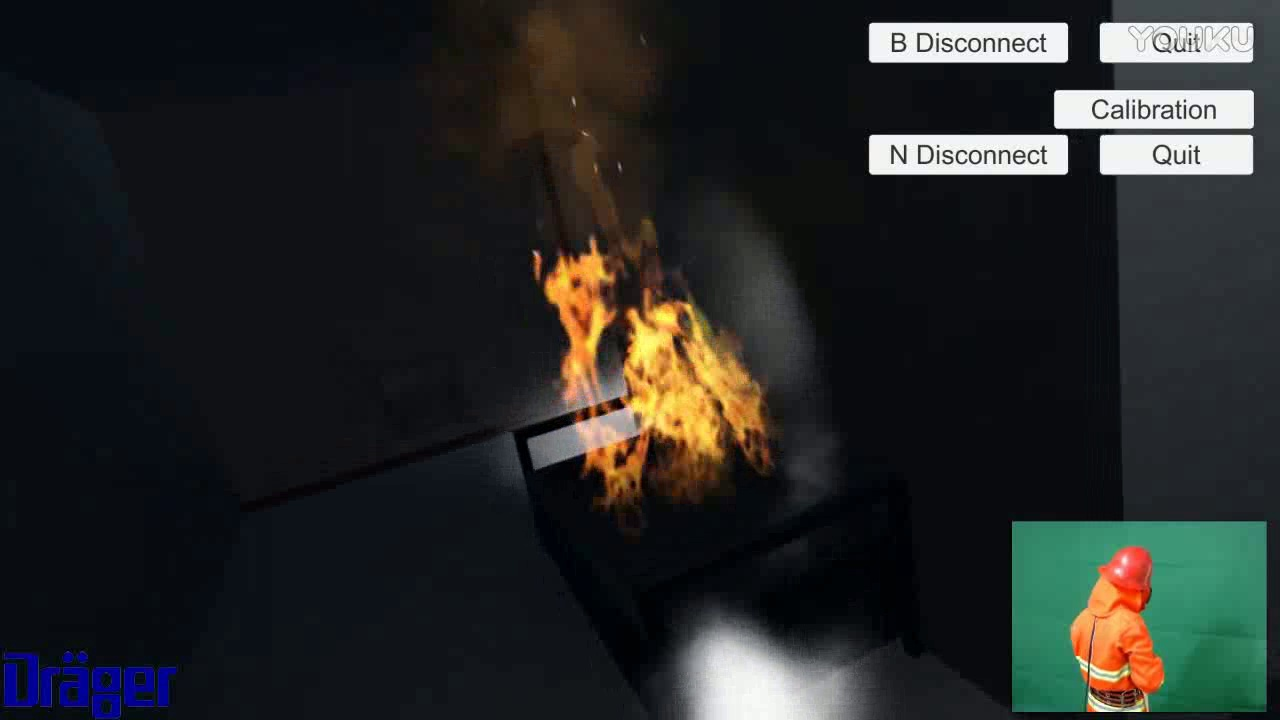fire: (529, 233, 781, 531)
